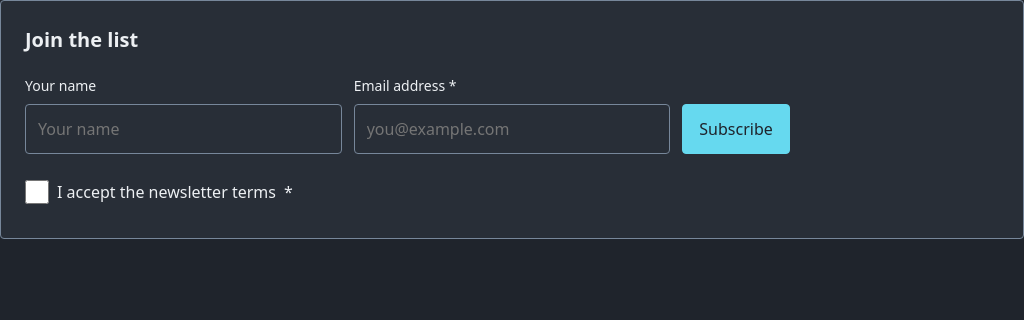
NewsletterSignup › includes the optional name and consent and exposes its pending state
Later steps or results of the test are not shown.
Expected: the heading "Join the list" is shown, [25,26,138,53]
Type "  Alex Rivera " into the field labelled "Your name".
click(183, 129); type("  Alex Rivera ")  # box [25,104,342,154]
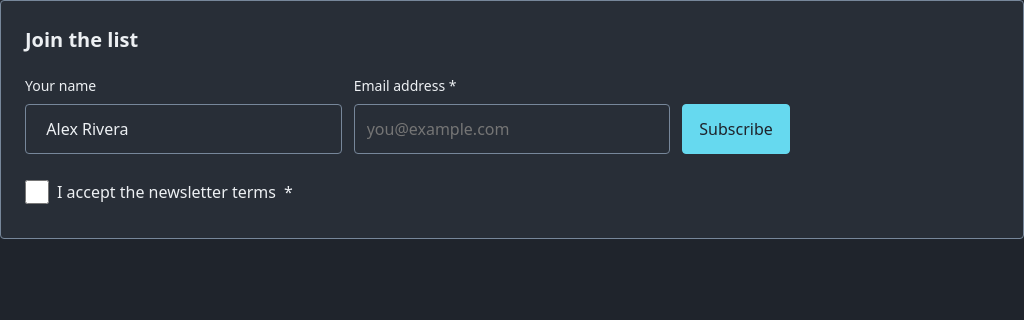
Type " alex@example.com " into the field labelled "Email address".
click(512, 129); type(" alex@example.com ")  # box [354,104,670,154]
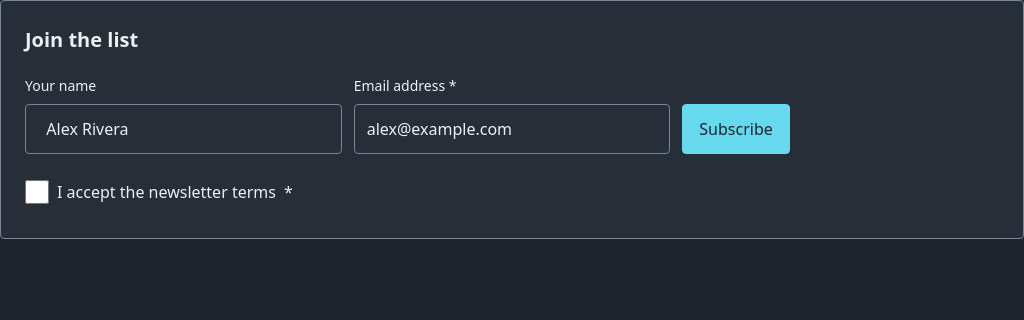
Click the checkbox labelled "I accept the newsletter terms".
click(37, 192)  # box [25,180,49,204]
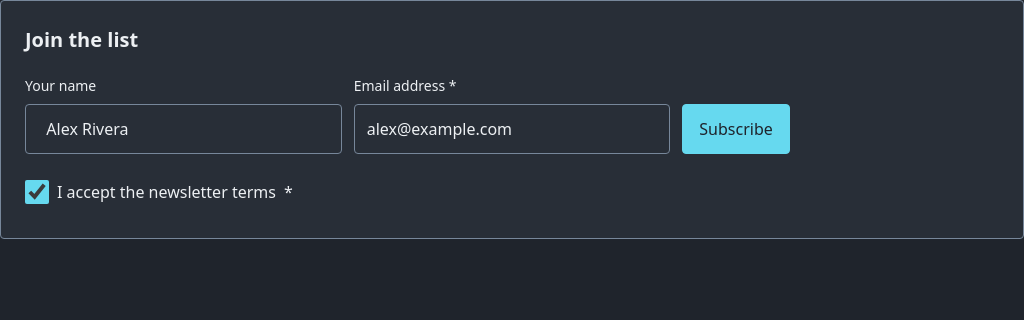
Submit the form named "Sign up for Join the list", box [25,76,790,204]
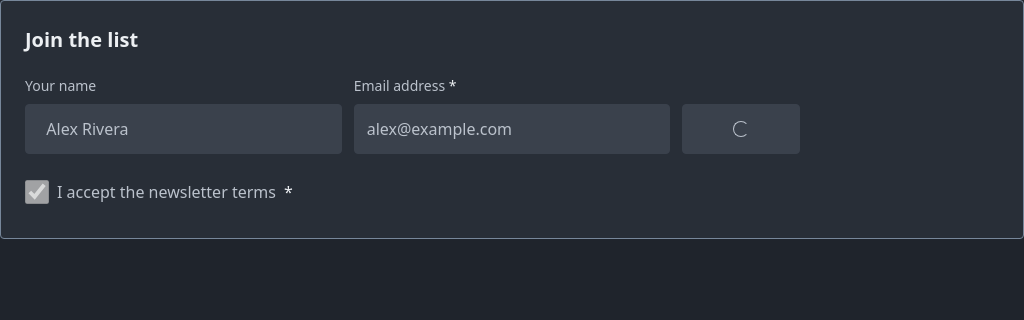
Submit the form named "Sign up for Join the list", box [25,76,800,204]
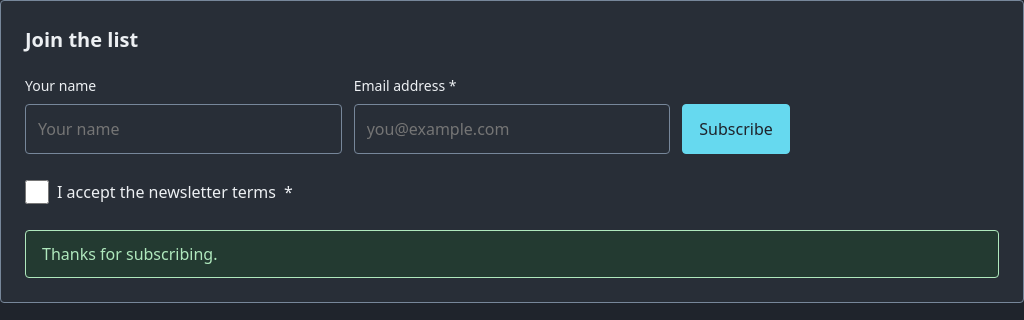
Expected: the message "Thanks for subscribing." is shown, [25,230,999,278]
